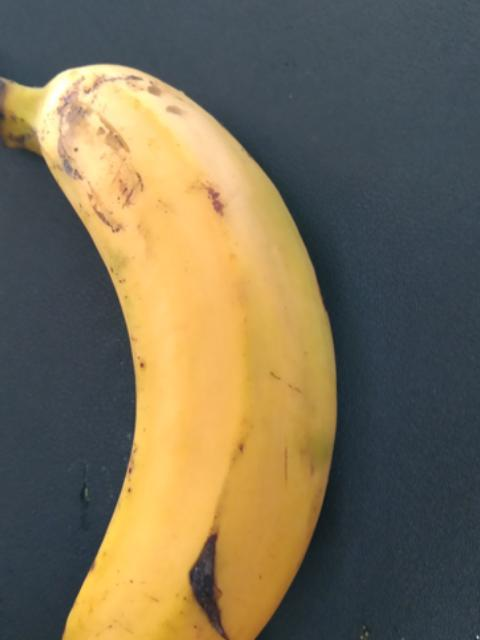ripe: (25, 60, 368, 639)
